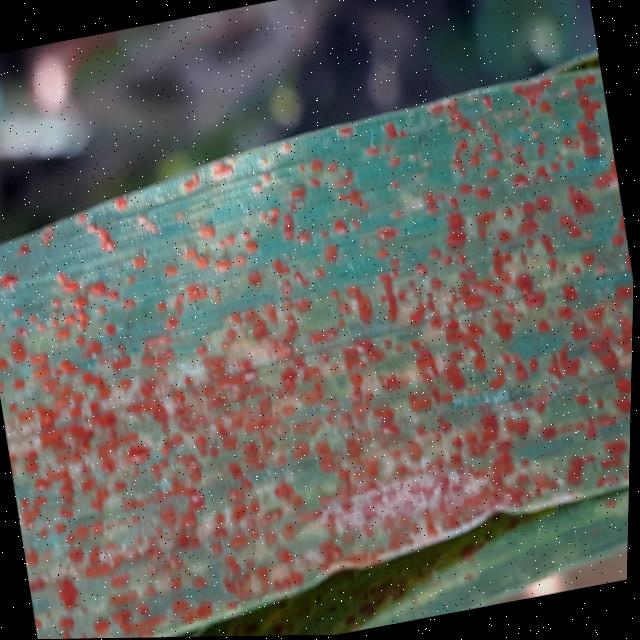orang_rust: (0, 49, 639, 640)
